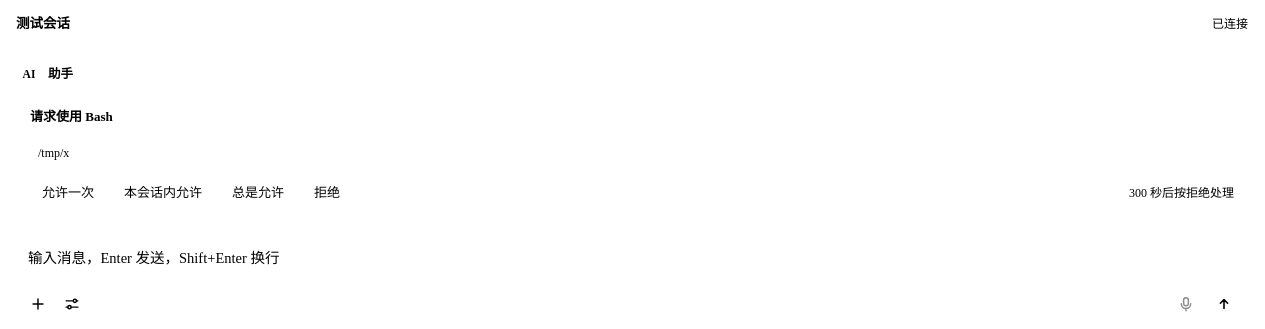
Test: 一轮 › 权限卡：四个回答与倒计时；回答走 session.respondToPrompt
The image size is (1265, 329).
expect the text with test id "conv-ask-countdown" reads "300 秒后按拒绝处理": met, box [1129, 182, 1234, 204]
Step 1. Click the button with test id "conv-ask-allow-session" → (163, 193), box [112, 176, 214, 210]
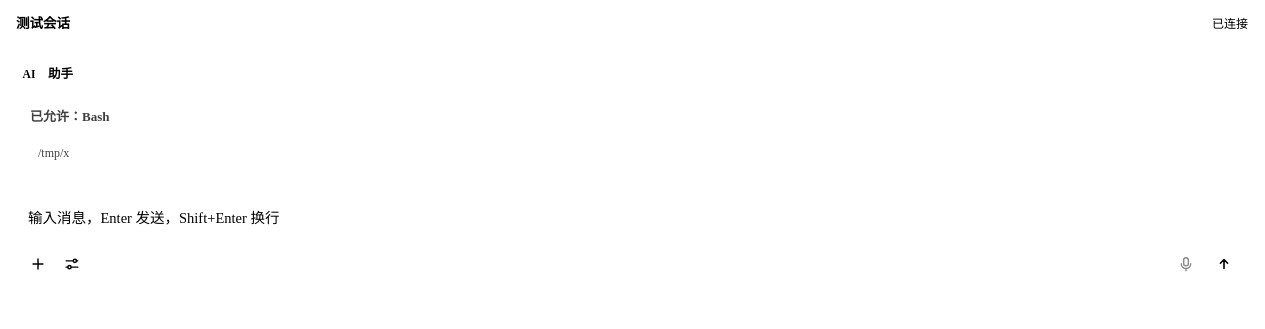
expect no the button "允许一次" are shown: met
